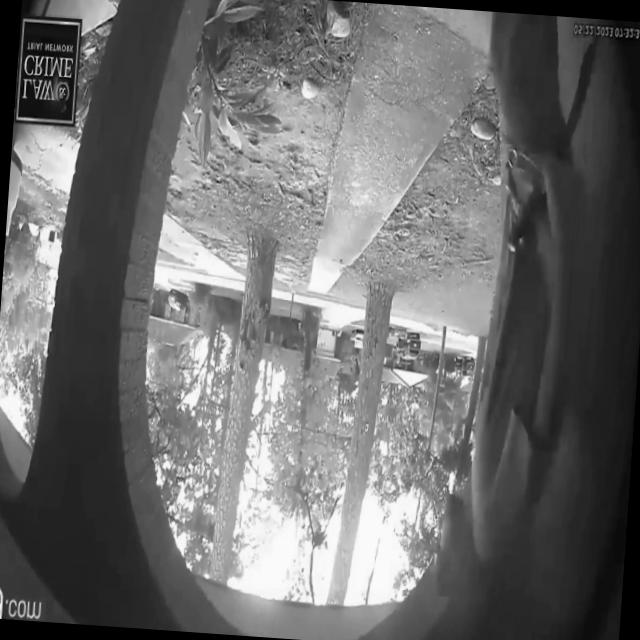weapon: (412, 9, 602, 606)
